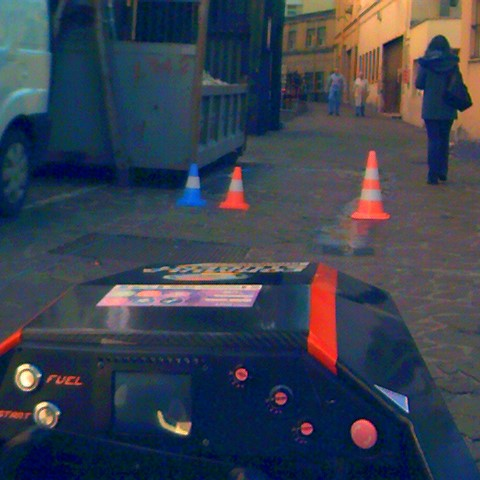cone: (174, 164, 208, 208)
